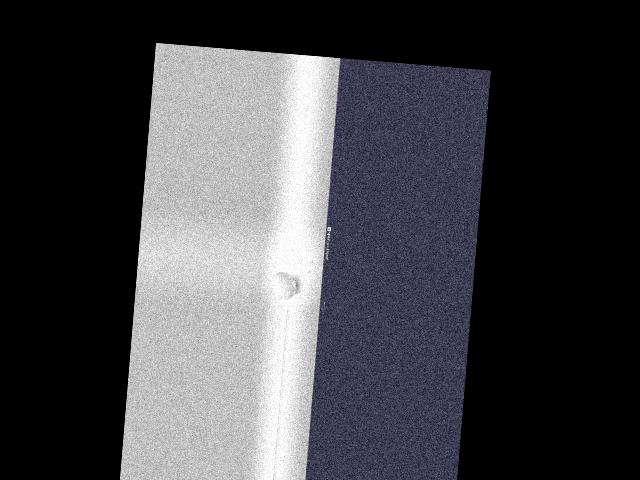egg: (270, 271, 298, 301)
